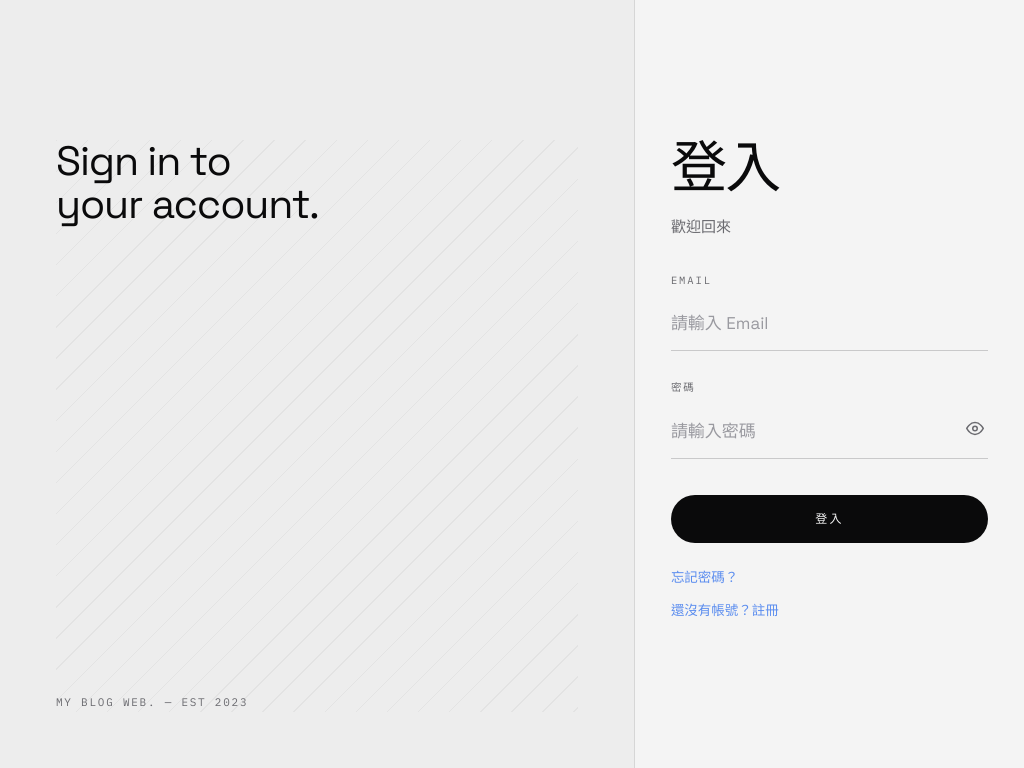
Scenario: LoginView › 提交中按鈕 disabled 且顯示「登入中...」
Type "test@test.com" into the field labelled "Email" at (829, 324), box [671,297,988,351]
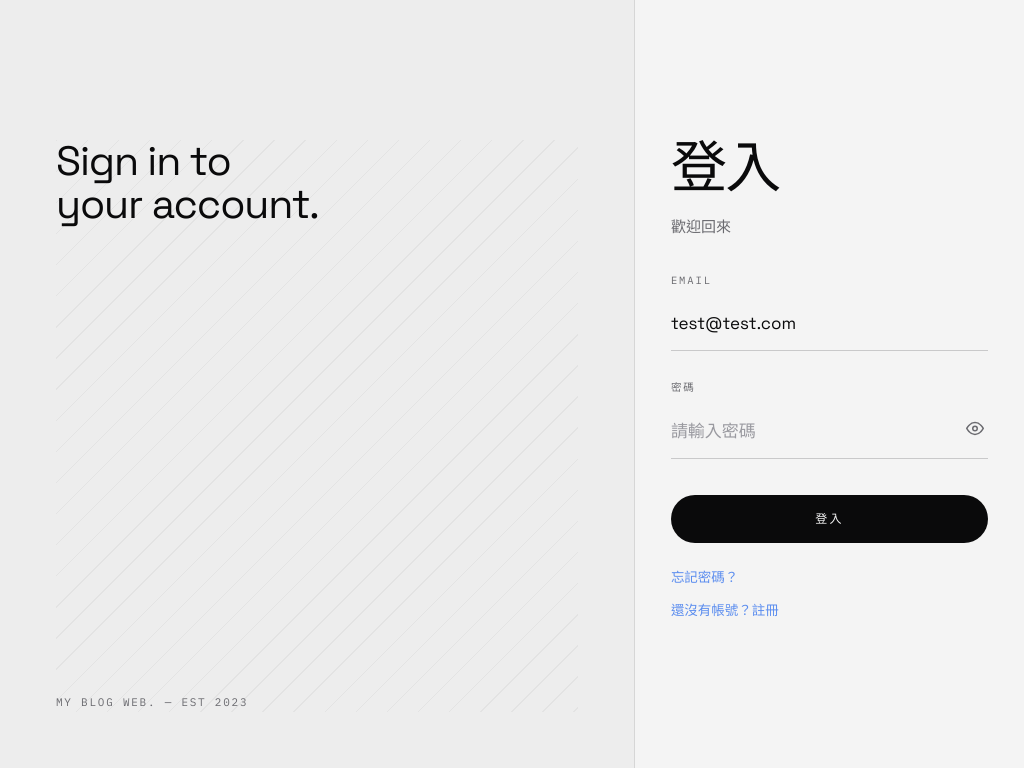
Type "password123" into the password field labelled "密碼" at (829, 432), box [671,405,988,459]
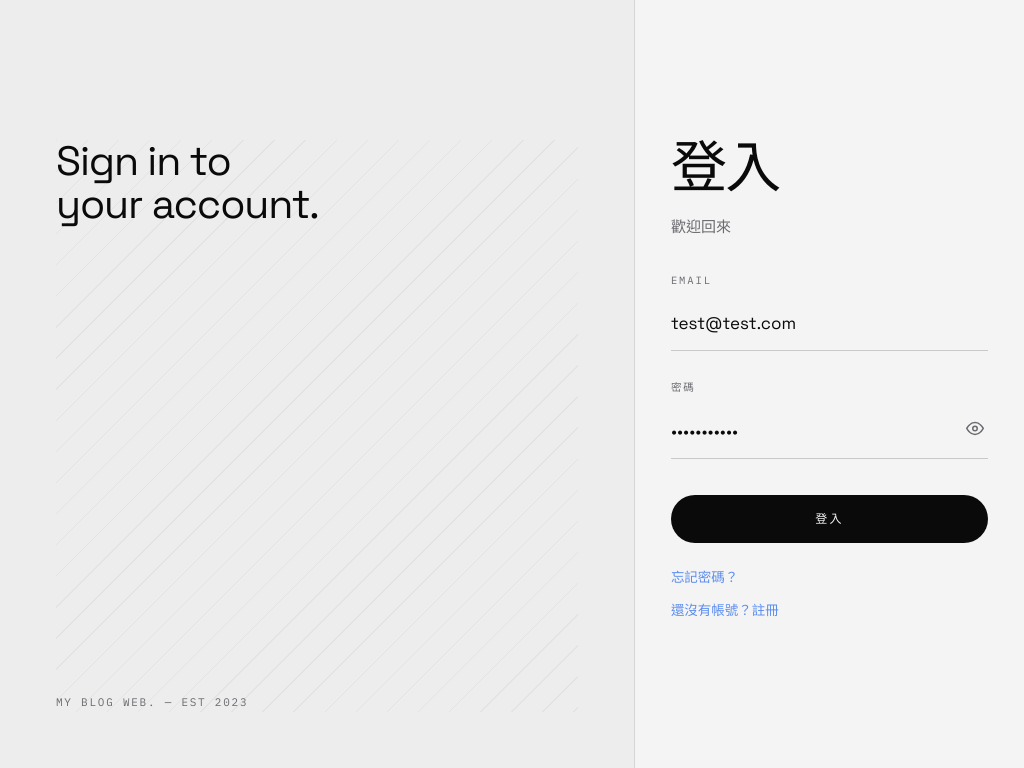
Click the button "登入" at (829, 519), box [671,495,988,543]
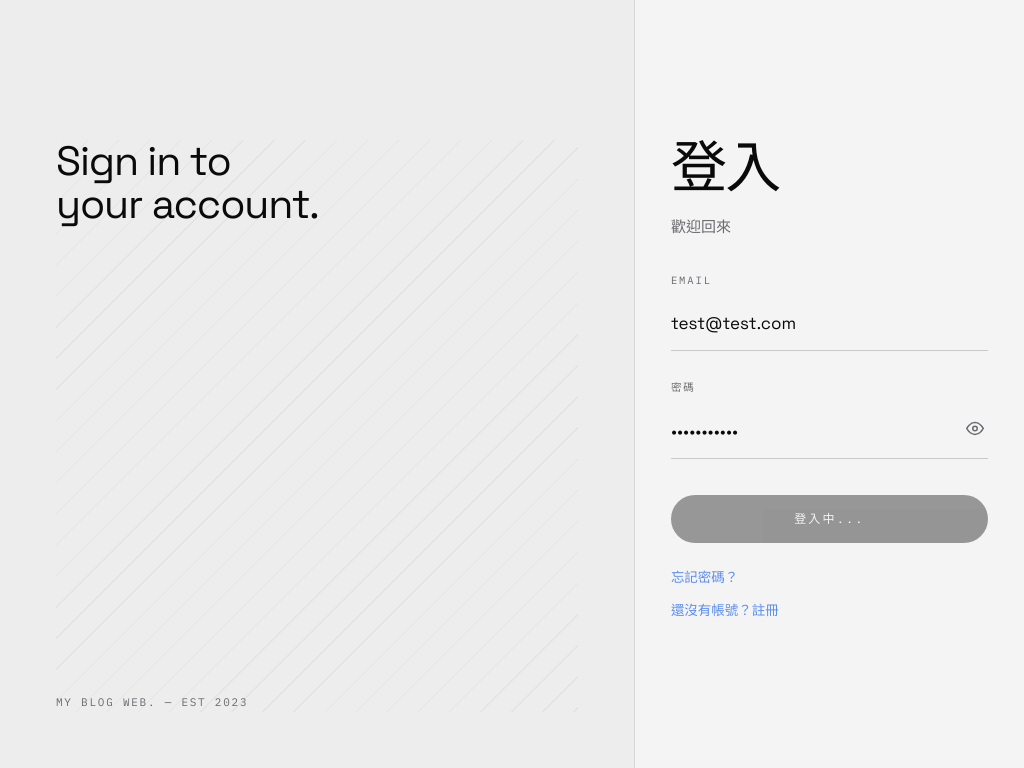
Check: the button "登入中..." is disabled, box [671,495,988,543]
